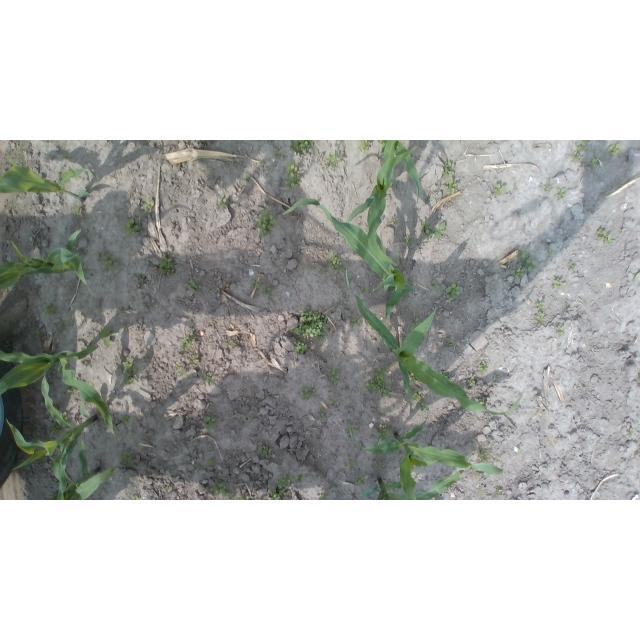Maize: (343, 266, 526, 419), (281, 197, 415, 321), (6, 351, 98, 500), (348, 413, 505, 500), (0, 342, 120, 440), (342, 141, 418, 260), (0, 227, 92, 292), (0, 150, 100, 201), (55, 439, 116, 500), (359, 466, 466, 500), (375, 140, 426, 194), (19, 140, 69, 166)
Weeds: (293, 306, 329, 342), (366, 366, 394, 399), (283, 161, 303, 193), (256, 208, 278, 236), (210, 482, 235, 500), (122, 358, 138, 386), (328, 252, 346, 275), (291, 140, 316, 156), (412, 390, 430, 411), (99, 326, 116, 347), (123, 219, 141, 238), (101, 253, 119, 271), (533, 301, 547, 324), (158, 256, 174, 276), (446, 283, 463, 301), (596, 229, 614, 246), (420, 219, 433, 242), (300, 384, 316, 401), (410, 312, 423, 332), (181, 332, 195, 350), (445, 177, 459, 195), (276, 474, 292, 489), (327, 152, 342, 168), (606, 143, 622, 158), (327, 368, 341, 385), (511, 262, 525, 279), (378, 423, 391, 441), (293, 340, 307, 356), (441, 160, 455, 176), (479, 360, 492, 376), (204, 416, 218, 430), (44, 303, 58, 317), (201, 373, 216, 386), (575, 140, 590, 153), (257, 446, 273, 458), (435, 222, 446, 239), (74, 202, 85, 219), (349, 314, 363, 327), (550, 276, 564, 289), (269, 488, 284, 500), (121, 452, 134, 465), (142, 200, 155, 213), (50, 424, 64, 436), (188, 279, 199, 294), (478, 450, 490, 463), (403, 234, 415, 247), (540, 180, 552, 193), (261, 287, 275, 298), (360, 140, 371, 154), (175, 362, 185, 377), (407, 371, 419, 383), (347, 424, 358, 437), (356, 474, 367, 487), (495, 184, 506, 197), (572, 151, 585, 162), (430, 280, 440, 294), (65, 386, 80, 395), (519, 247, 529, 260), (74, 247, 87, 257), (526, 259, 535, 273), (318, 490, 330, 500), (441, 370, 451, 382), (556, 187, 566, 199), (588, 158, 598, 169), (348, 456, 357, 468), (317, 408, 326, 420), (219, 198, 228, 210), (493, 373, 503, 383), (556, 326, 565, 337), (35, 329, 46, 338), (61, 411, 69, 423), (250, 280, 260, 289), (466, 374, 475, 384), (297, 473, 305, 484), (330, 396, 339, 405), (360, 284, 369, 293), (120, 415, 130, 423), (518, 444, 525, 455), (206, 458, 215, 466), (390, 216, 398, 225), (135, 273, 145, 280), (627, 427, 634, 437), (230, 340, 238, 348), (495, 486, 503, 494), (62, 152, 70, 160), (319, 268, 327, 276), (238, 494, 248, 500), (194, 354, 201, 362), (376, 462, 384, 469), (445, 338, 453, 345), (569, 261, 576, 269), (478, 397, 486, 404), (121, 141, 128, 148), (548, 250, 555, 257), (131, 496, 140, 501), (248, 415, 254, 422), (308, 266, 316, 271), (166, 484, 172, 490), (274, 151, 280, 157), (244, 176, 251, 181), (145, 156, 149, 161), (472, 450, 476, 455), (558, 346, 562, 350)
